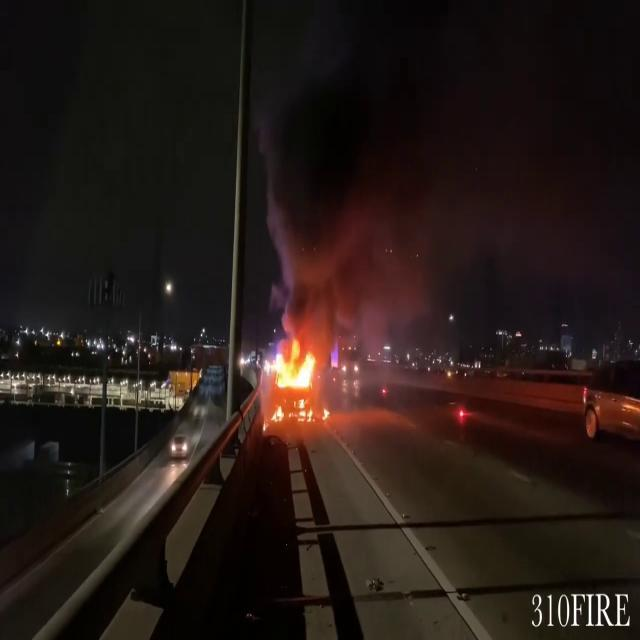Fire: (267, 332, 325, 424)
Smoke: (239, 47, 395, 326)
